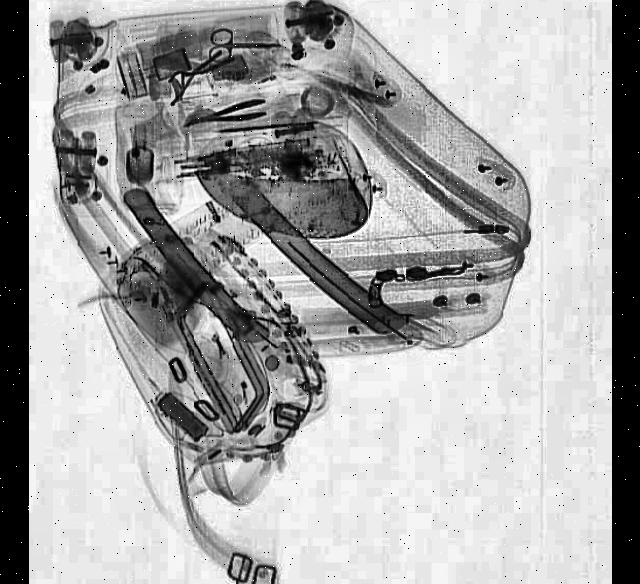Scissors: (210, 30, 282, 68)
